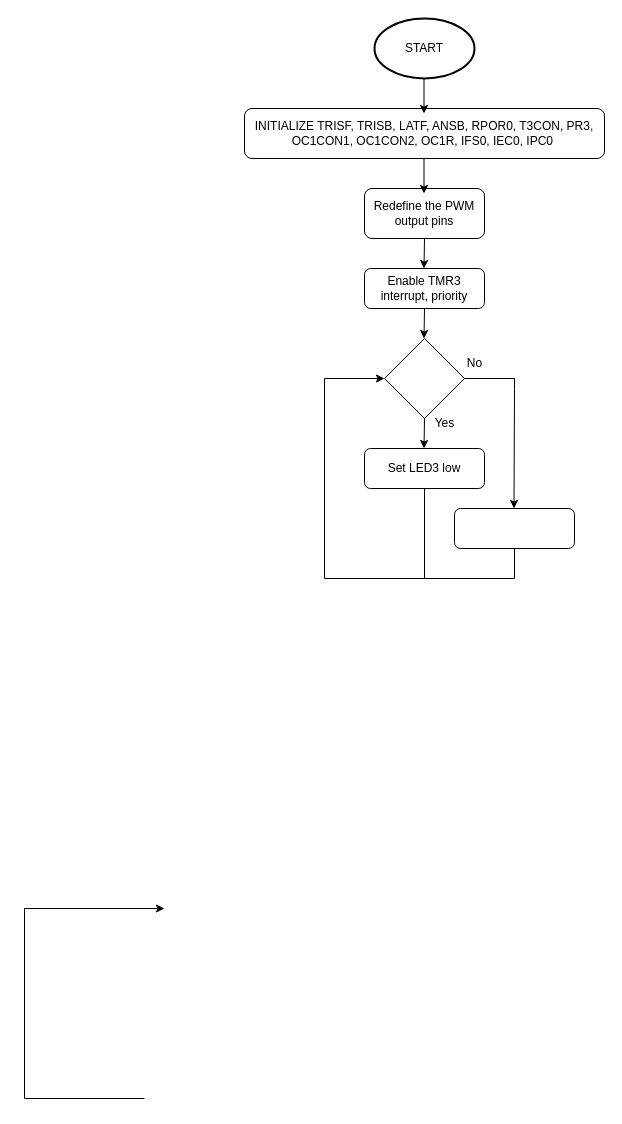
This 622x1124 diagram has some shape labels left out. Here are the shapes that lost their labels. From the top down, the box of each, then its label:
(384, 338, 464, 418): Is PWM period count even ?
(454, 508, 574, 548): Set LED3 high
